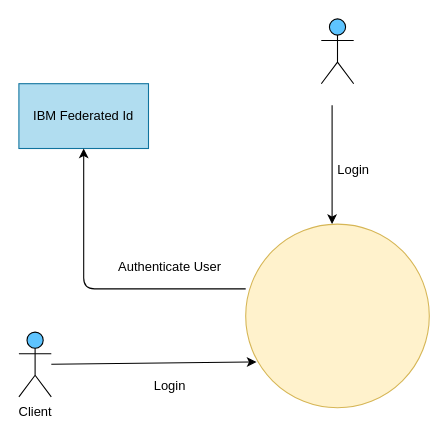
This 448x438 diagram has some shape labels left out. The centre of each missing label's shape, as x and y in pixels:
IBMer: (x=337, y=51)
Innovation Hub: (x=337, y=315)
